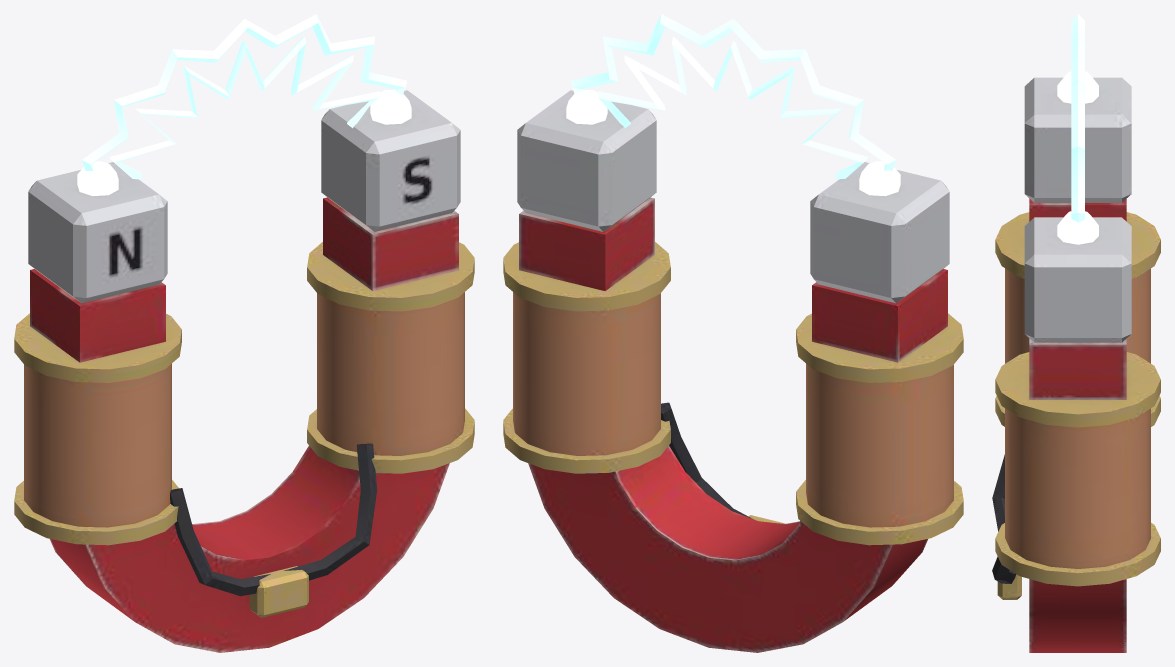
The model's file is magnet.glb.
The picture shows the model from 3 angles, left to right: view 1: azimuth 30°, elevation 25°; view 2: azimuth 150°, elevation 25°; view 3: azimuth 270°, elevation 25°; orthographic projection. The views are drawn at different scales.
Visible parts, largest first — view 1: body, arc0, arc1, Sphere.001, Sphere; view 2: body, arc0, arc1, Sphere, Sphere.001; view 3: body, arc0, Sphere.001, Sphere.
Part boxes in pixels (x1,y1,x2,y2): body: [14, 90, 474, 652]; arc0: [82, 14, 406, 170]; arc1: [109, 36, 379, 179]; Sphere.001: [370, 89, 411, 124]; Sphere: [77, 161, 118, 196]; body: [503, 90, 963, 652]; arc0: [571, 14, 895, 170]; arc1: [598, 36, 868, 179]; Sphere: [859, 161, 900, 196]; Sphere.001: [566, 89, 607, 124]; body: [992, 77, 1160, 652]; arc0: [1071, 14, 1084, 222]; Sphere.001: [1057, 211, 1098, 244]; Sphere: [1057, 71, 1098, 103].
Bounding box in the file's own units: 0.8976 × 1.19 × 0.3051.
3 materials, 1 textured.
